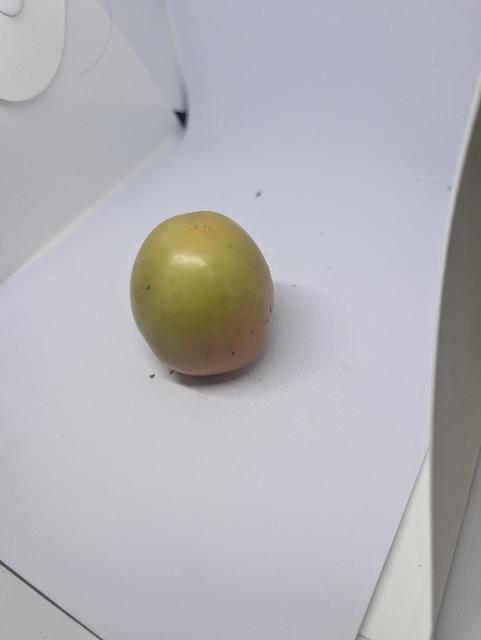breaker: (131, 211, 274, 376)
